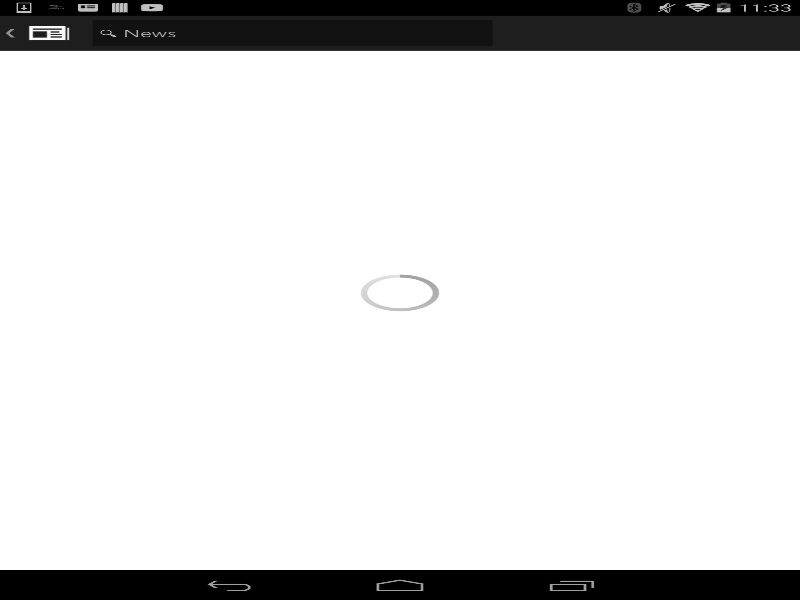Input: (92, 20, 492, 46)
